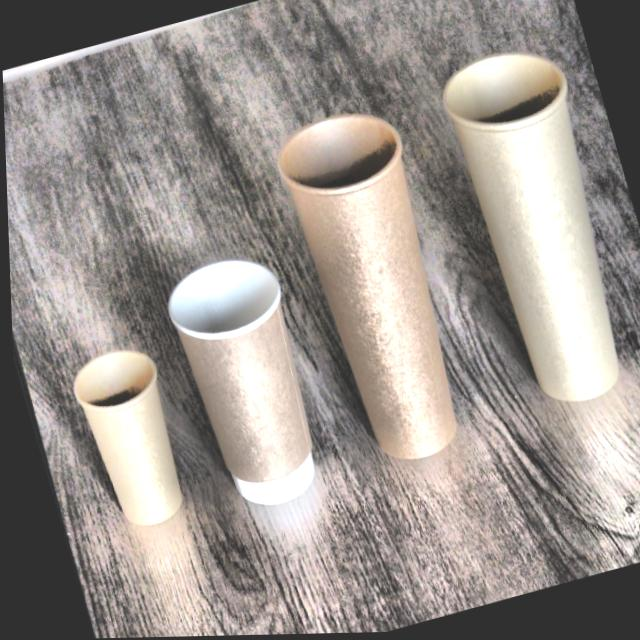Cup: (257, 85, 490, 492), (423, 18, 640, 442), (144, 236, 340, 534), (57, 330, 202, 549)
